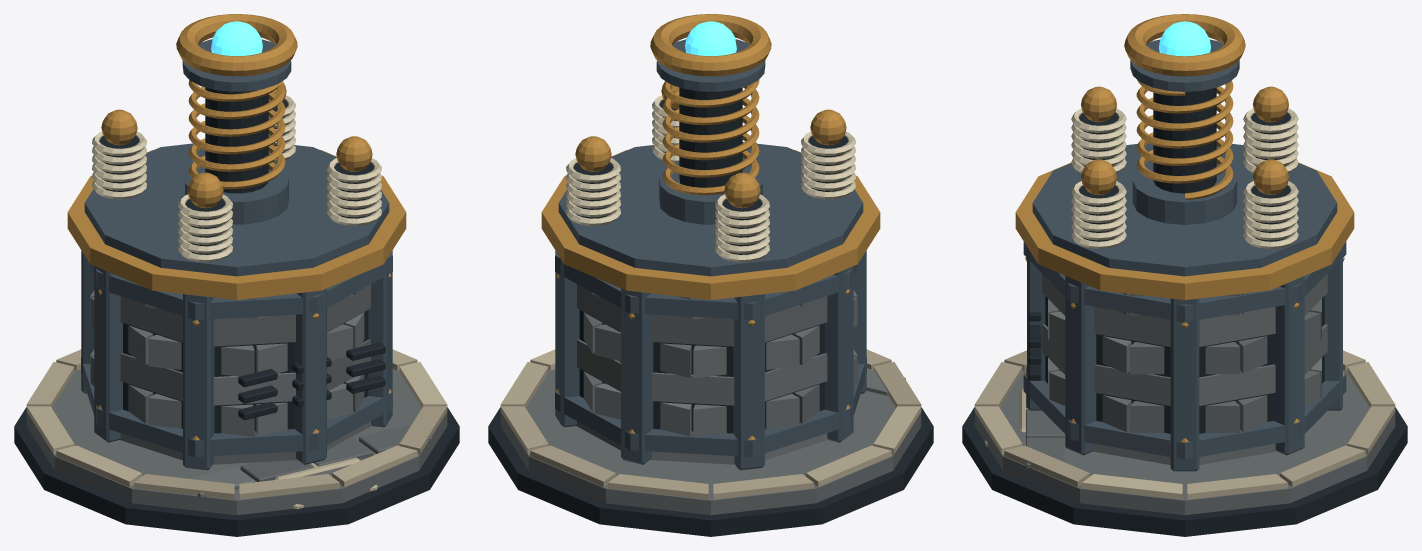
The model's file is lightning__base__L01.glb.
3 views of the same model, side by side, from view 1: azimuth 30°, elevation 25°; view 2: azimuth 150°, elevation 25°; view 3: azimuth 270°, elevation 25° (orthographic).
Visible parts, largest first — view 1: structure, weapon; view 2: structure, weapon; view 3: structure, weapon.
Boxes of the visible parts, <box> form: structure: <box>14,82,459,536</box>; weapon: <box>176,14,297,224</box>; structure: <box>488,81,933,536</box>; weapon: <box>650,14,771,224</box>; structure: <box>962,86,1407,536</box>; weapon: <box>1124,14,1245,224</box>.
Size of the model in its own units: 0.8624 by 0.8954 by 0.8624.
